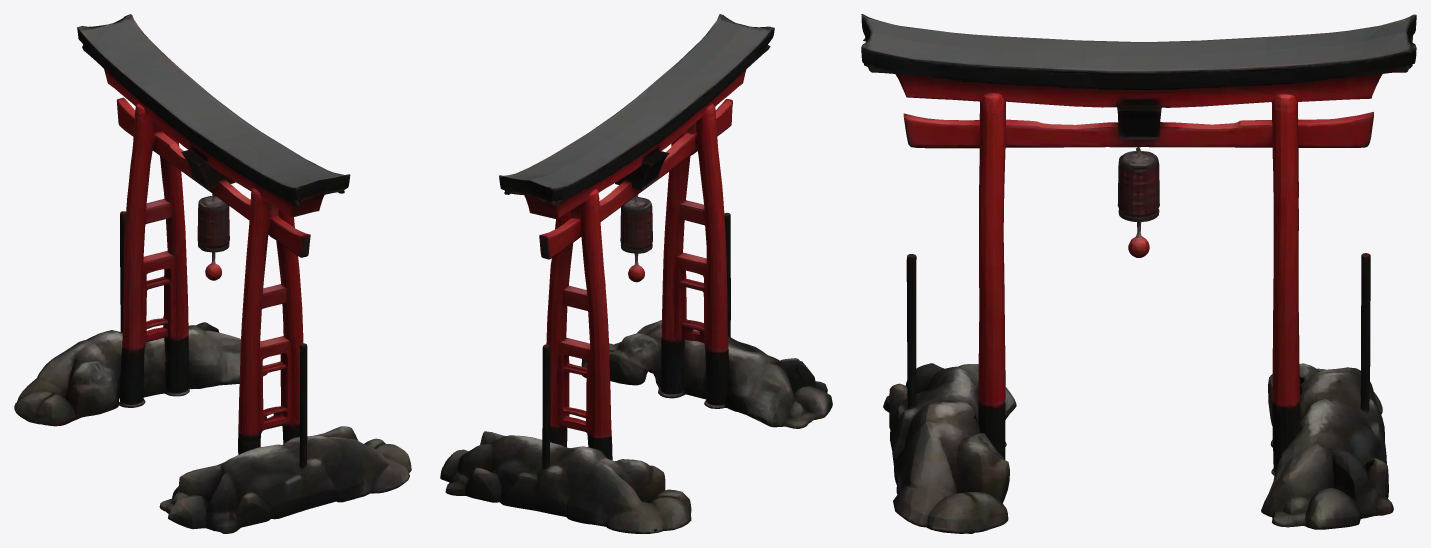
File: prop_amatsu_torii.fbx
3 renders of one model, left to right at view 1: azimuth 30°, elevation 25°; view 2: azimuth 150°, elevation 25°; view 3: azimuth 270°, elevation 25°, orthographic. The views are drawn at different scales.
Parts seen in each view (by area): view 1: geometry_0; view 2: geometry_0; view 3: geometry_0.
Boxes of the visible parts, x1,y1,x2,y2 form: geometry_0: (14, 14, 411, 533); geometry_0: (440, 14, 832, 533); geometry_0: (861, 14, 1416, 533).
Bounding box in the file's own units: 0.645 × 0.8565 × 1.
